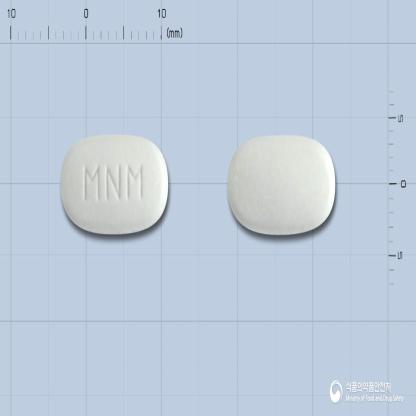pill: (226, 134, 337, 238), (59, 132, 170, 234)
